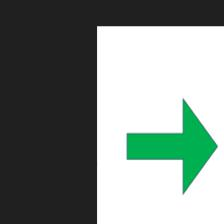right: (121, 95, 220, 199)
